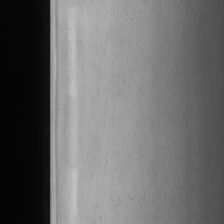silk_spot: (89, 10, 154, 223)
